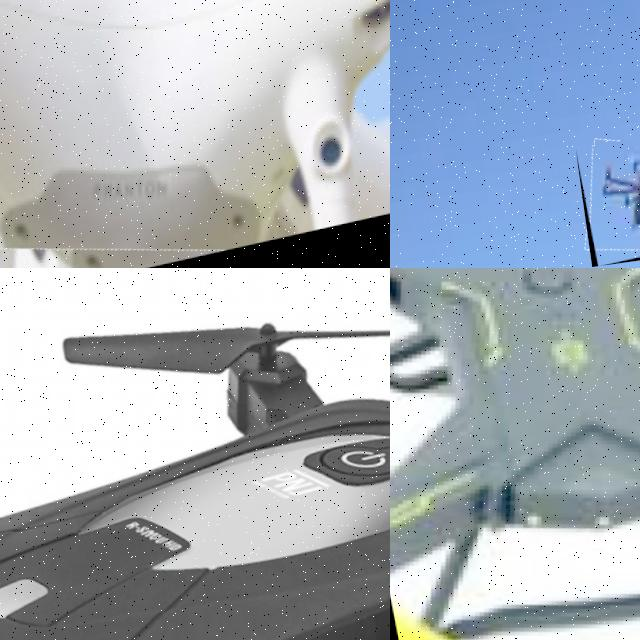drone: (0, 268, 390, 640), (0, 0, 390, 268), (390, 268, 640, 640), (575, 131, 640, 267)
